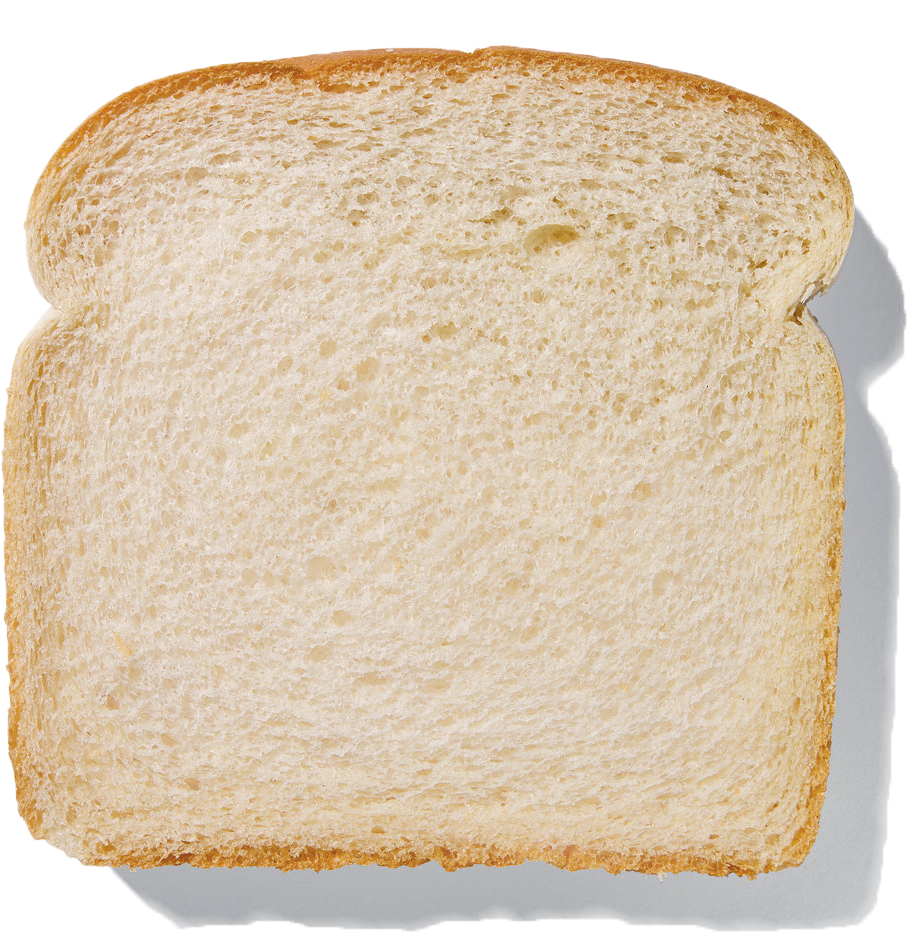slice of bread: (8, 51, 844, 880)
